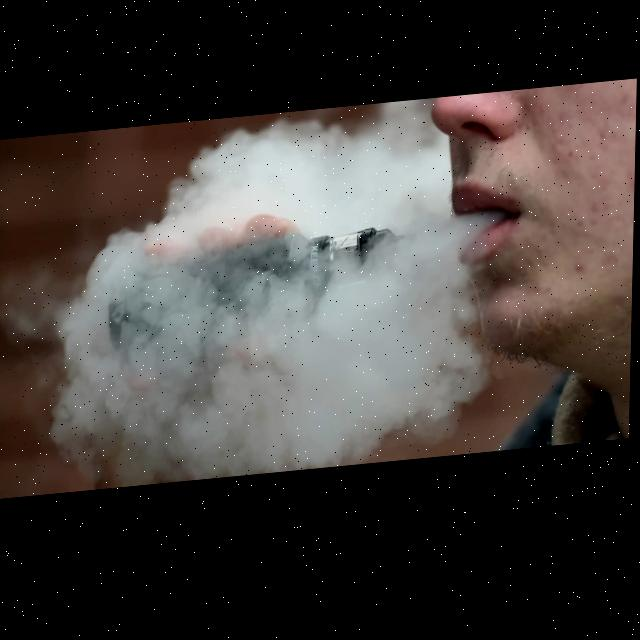vape: (111, 229, 422, 366)
